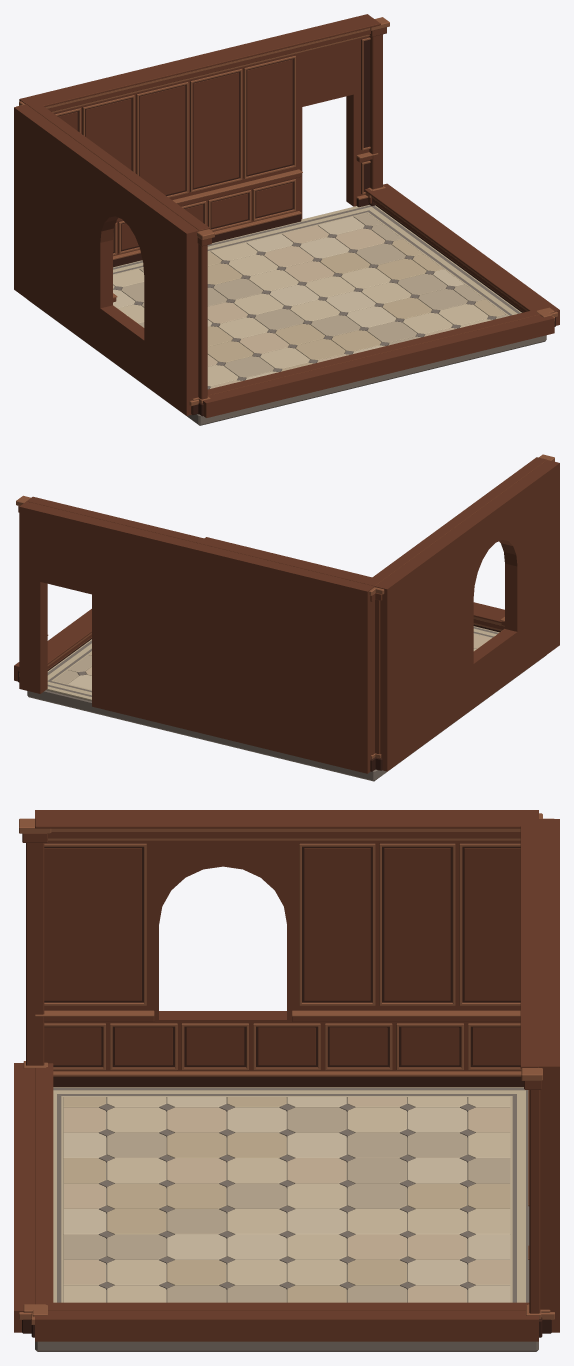
The model's file is r10_architecture.glb.
3 renders of one model, top to bottom at view 1: azimuth 30°, elevation 25°; view 2: azimuth 150°, elevation 25°; view 3: azimuth 270°, elevation 25°, orthographic. The views are drawn at different scales.
Parts seen in each view (by area): view 1: R10_Floor, R10_left_Wall_Solid_00, R10_rear_Wall_Solid_00, R10_front_Cutedge_Solid_00, R10_rear_Wall_UpperPanel_00_0_3_Field, R10_rear_Wall_UpperPanel_00_0_4_Field, R10_rear_Wall_UpperPanel_00_0_2_Field, R10_rear_Wall_Cornice_00_3_0, R10_Floor_Foundation, R10_rear_Wall_UpperPanel_00_0_1_Field, R10_front_Cutedge_Cornice_00_3_0, R10_right_Cutedge_Solid_00 (+19 smaller); view 2: R10_rear_Wall_Solid_00, R10_left_Wall_Solid_00, R10_Floor_Foundation, R10_rear_Wall_Cornice_00_3_0, R10_Floor, R10_left_Wall_Cornice_00_3_0, Pilaster_Shaft, R10_front_Cutedge_Solid_00, R10_right_Cutedge_Solid_00, Pilaster_Shaft_003, R10_right_Cutedge_Cornice_00_3_0; view 3: R10_Floor, R10_left_Wall_Solid_00, R10_right_Cutedge_Solid_00, R10_left_Wall_UpperPanel_00_0_0_Field, R10_left_Wall_UpperPanel_00_1_0_Field, R10_left_Wall_UpperPanel_00_1_1_Field, R10_rear_Wall_Solid_00, R10_left_Wall_UpperPanel_00_1_2_Field, R10_left_Wall_Skirting_00_0, R10_Floor_Foundation, R10_left_Wall_Cornice_00_3_0, R10_front_Cutedge_Solid_00 (+26 smaller).
Boxes of the visible parts, x1,y1,x2,y2 form: R10_Floor: [113, 205, 521, 388]; R10_left_Wall_Solid_00: [14, 104, 198, 415]; R10_rear_Wall_Solid_00: [19, 14, 373, 256]; R10_front_Cutedge_Solid_00: [203, 315, 554, 417]; R10_rear_Wall_UpperPanel_00_0_3_Field: [193, 72, 238, 188]; R10_rear_Wall_UpperPanel_00_0_4_Field: [247, 59, 292, 175]; R10_rear_Wall_UpperPanel_00_0_2_Field: [139, 85, 185, 195]; R10_rear_Wall_Cornice_00_3_0: [27, 19, 380, 108]; R10_Floor_Foundation: [27, 299, 546, 425]; R10_rear_Wall_UpperPanel_00_0_1_Field: [85, 99, 131, 169]; R10_front_Cutedge_Cornice_00_3_0: [207, 308, 541, 395]; R10_right_Cutedge_Solid_00: [379, 183, 559, 325]; R10_rear_Wall_Solid_00: [19, 501, 374, 773]; R10_left_Wall_Solid_00: [374, 460, 559, 771]; R10_Floor_Foundation: [27, 655, 546, 781]; R10_rear_Wall_Cornice_00_3_0: [26, 496, 379, 586]; R10_Floor: [46, 626, 499, 700]; R10_left_Wall_Cornice_00_3_0: [365, 457, 546, 585]; Pilaster_Shaft: [375, 599, 380, 754]; R10_front_Cutedge_Solid_00: [204, 537, 504, 616]; R10_right_Cutedge_Solid_00: [14, 609, 91, 681]; Pilaster_Shaft_003: [371, 600, 374, 754]; R10_right_Cutedge_Cornice_00_3_0: [47, 621, 91, 664]; R10_Floor: [53, 1087, 529, 1302]; R10_left_Wall_Solid_00: [35, 810, 538, 1071]; R10_right_Cutedge_Solid_00: [35, 1311, 538, 1341]; R10_left_Wall_UpperPanel_00_0_0_Field: [44, 848, 141, 1000]; R10_left_Wall_UpperPanel_00_1_0_Field: [304, 848, 370, 1000]; R10_left_Wall_UpperPanel_00_1_1_Field: [384, 848, 450, 1000]; R10_rear_Wall_Solid_00: [539, 819, 559, 1332]; R10_left_Wall_UpperPanel_00_1_2_Field: [464, 848, 520, 1000]; R10_left_Wall_Skirting_00_0: [53, 1076, 523, 1087]; R10_Floor_Foundation: [35, 1341, 538, 1351]; R10_left_Wall_Cornice_00_3_0: [35, 818, 538, 828]; R10_front_Cutedge_Solid_00: [14, 1063, 34, 1332].
Bounding box in the file's own units: 8.36 × 4.21 × 7.26.
